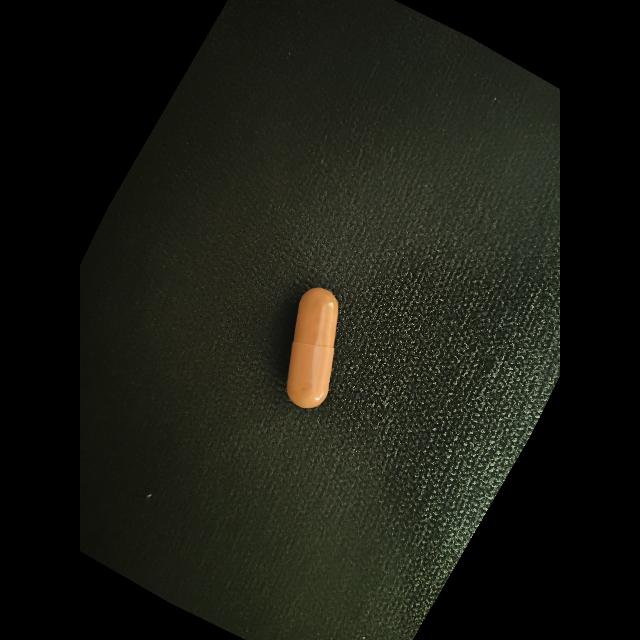Intact Capsule: (287, 287, 339, 408)
